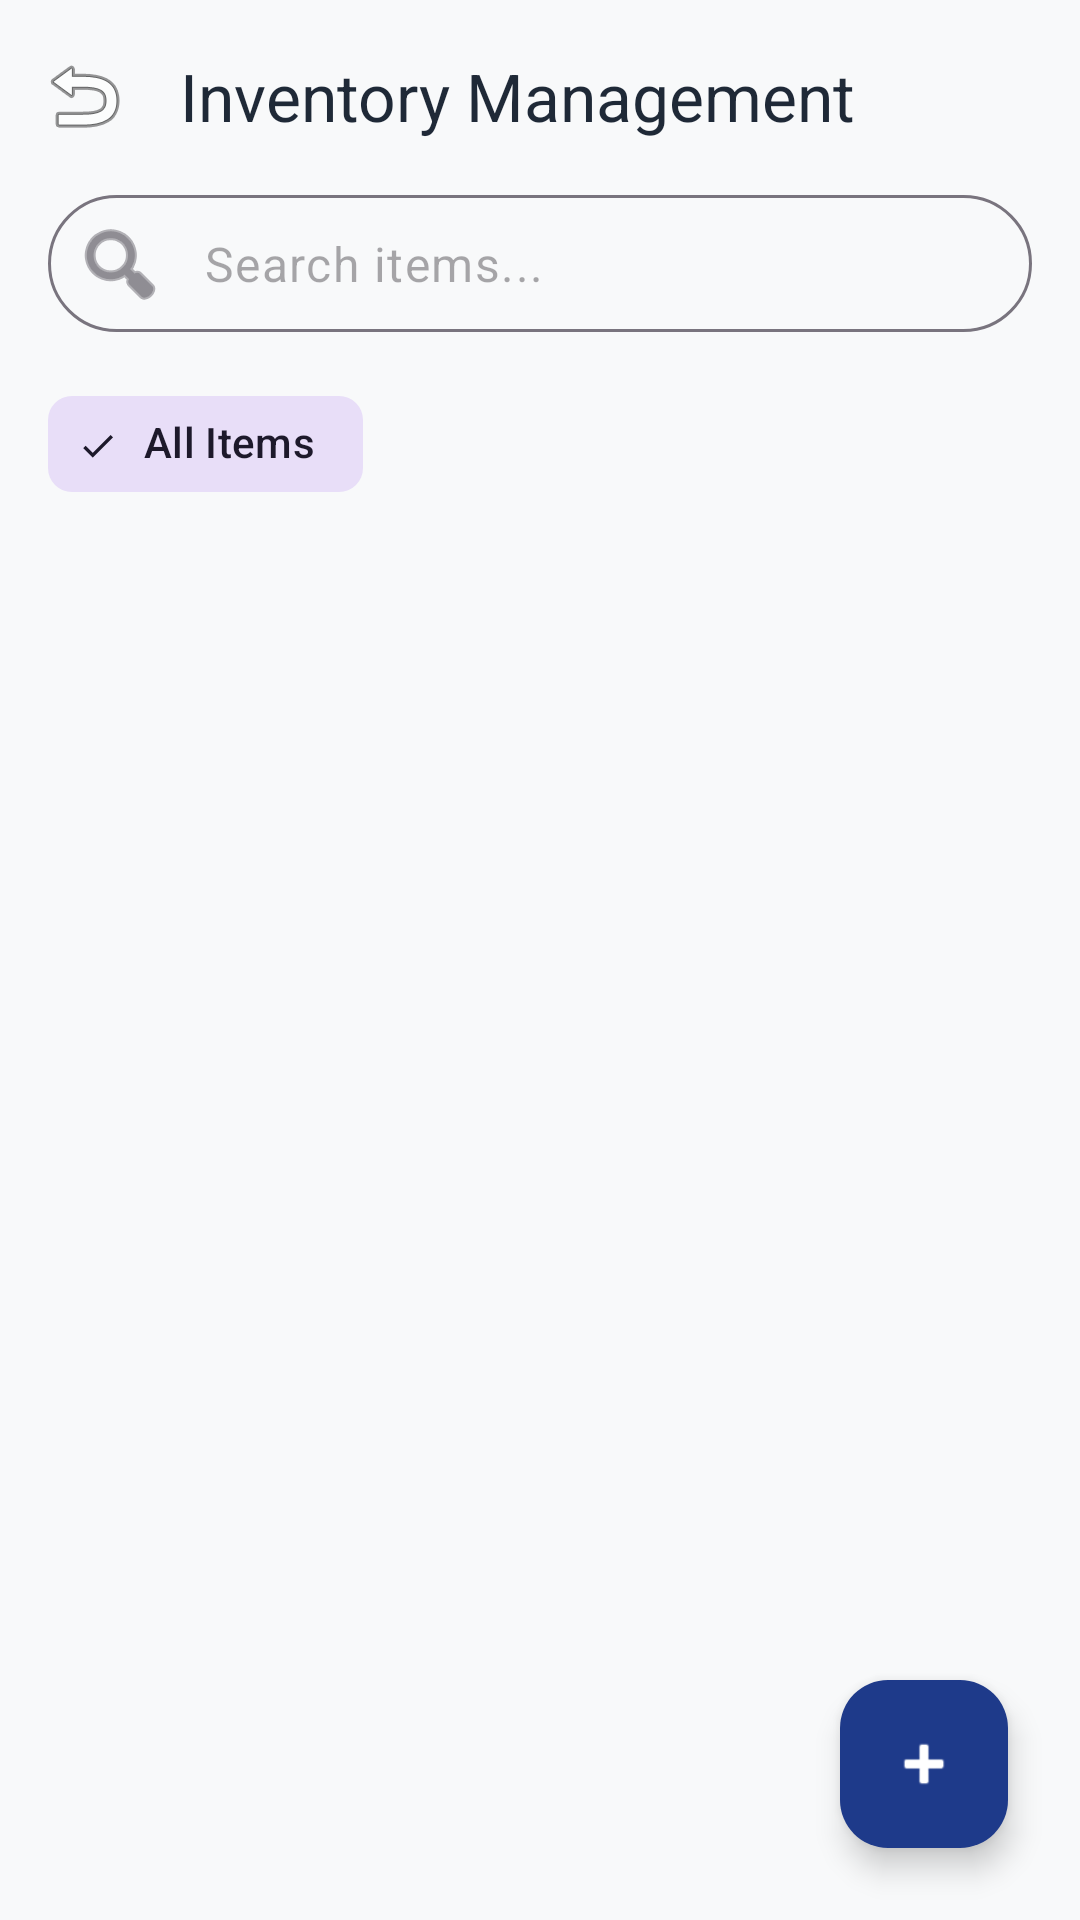

Screen size 1080px×1920px. Icon name, then its box in pixels as bbox(x1, y1, x2, y2):
Add New Item: bbox(840, 1680, 1008, 1848)
